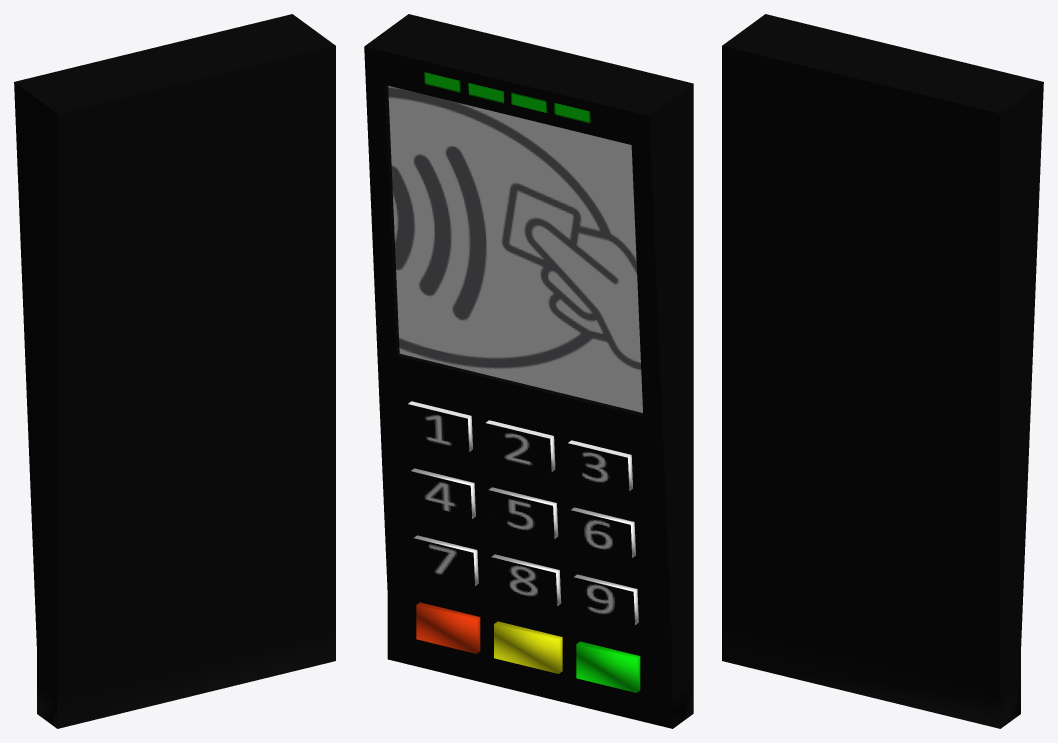
Rendered from CardREaderDooors.fbx.
3 views of the same model, side by side, from view 1: azimuth 30°, elevation 25°; view 2: azimuth 150°, elevation 25°; view 3: azimuth 330°, elevation 25° (orthographic). The views are drawn at different scales.
Parts seen in each view (by area): view 1: Eftpos; view 2: Eftpos; view 3: Eftpos.
Part boxes in pixels (x1,y1,x2,y2): Eftpos: (14,14,335,728); Eftpos: (364,14,693,728); Eftpos: (722,14,1043,728).
Bounding box in the file's own units: 21.37 × 45.12 × 5.77.
Materials: 1 (1 with a texture image).
